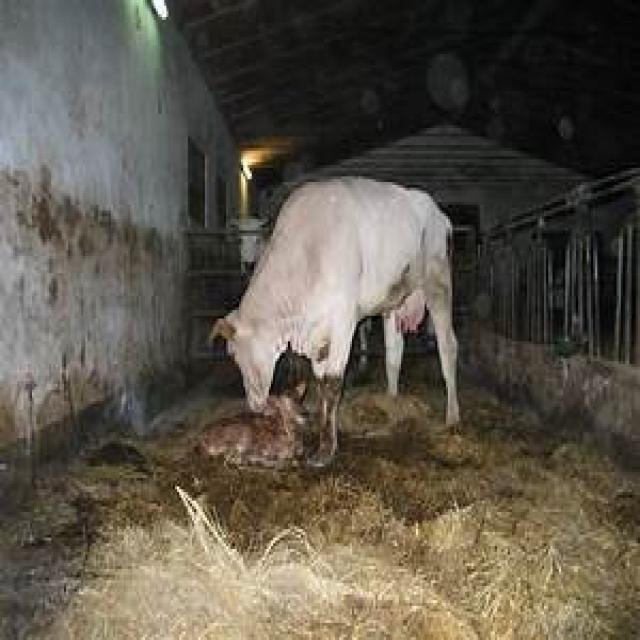cow: (212, 178, 460, 464)
